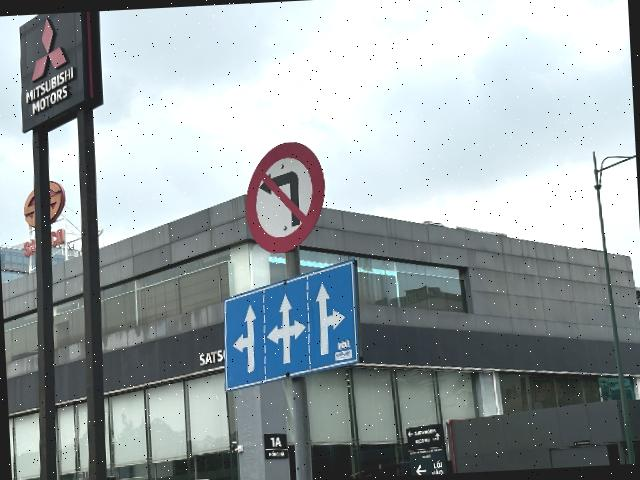cam-re-trai: (241, 139, 329, 256)
